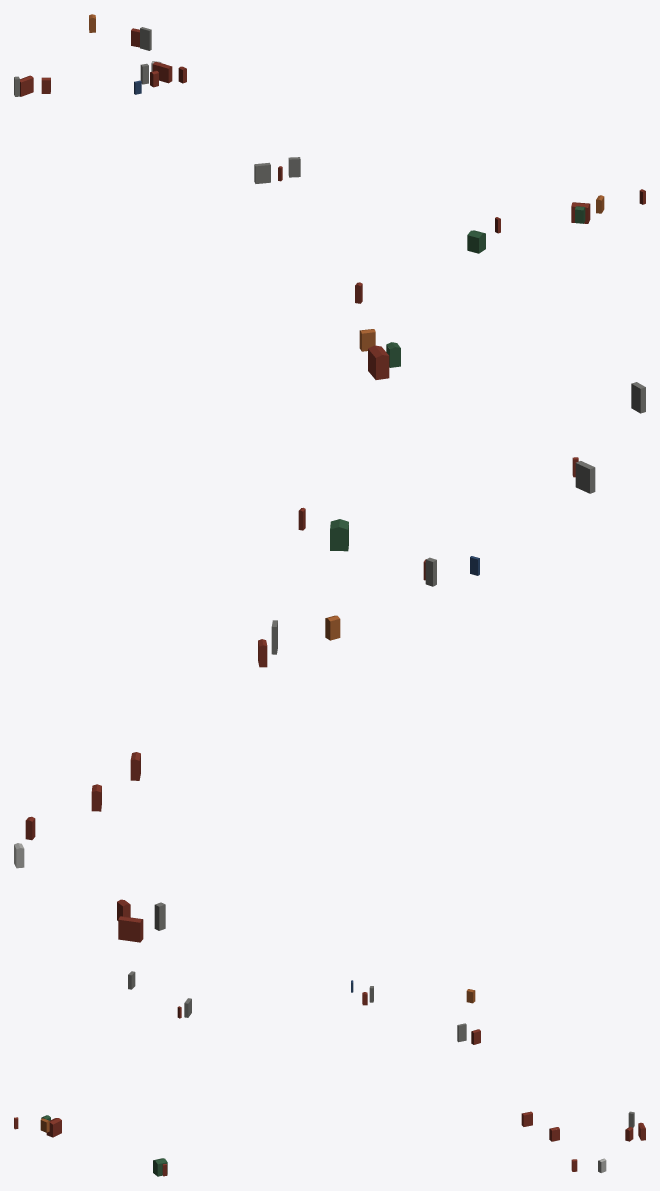
File: near-15-27359-14862.793e5824.glb
3 views of the same model, one above another, from view 1: azimuth 30°, elevation 25°; view 2: azimuth 150°, elevation 25°; view 3: azimuth 270°, elevation 25° (orthographic). The views are drawn at different scales.
Bounding box in the file's own units: 407 × 235 × 930.
